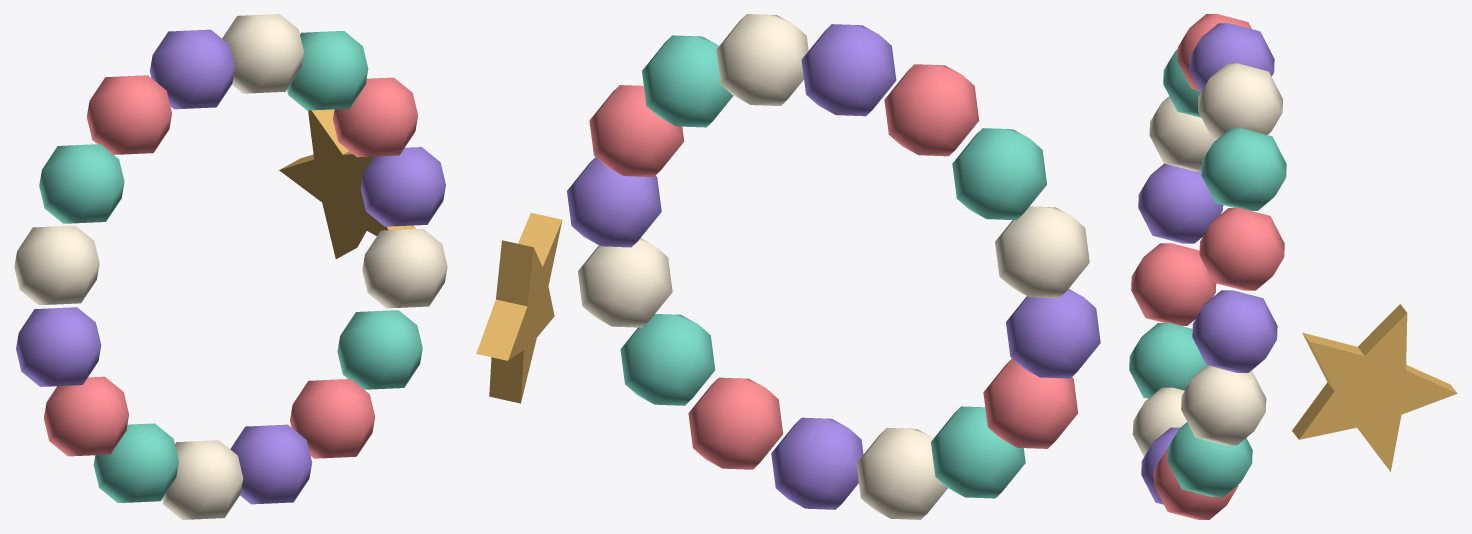
Rendered from candy-orbit.glb.
3 renders of one model, left to right at view 1: azimuth 30°, elevation 25°; view 2: azimuth 150°, elevation 25°; view 3: azimuth 270°, elevation 25°, orthographic. The views are drawn at different scales.
Visible parts, largest first — view 1: SHOP_candy-orbit_optimized; view 2: SHOP_candy-orbit_optimized; view 3: SHOP_candy-orbit_optimized.
Boxes of the visible parts, left/top/right/bottom form: SHOP_candy-orbit_optimized: left=14, top=14, right=447, bottom=519; SHOP_candy-orbit_optimized: left=476, top=14, right=1100, bottom=519; SHOP_candy-orbit_optimized: left=1129, top=14, right=1457, bottom=519.
Bounding box in the file's own units: 0.0706 × 0.069 × 0.0448.
